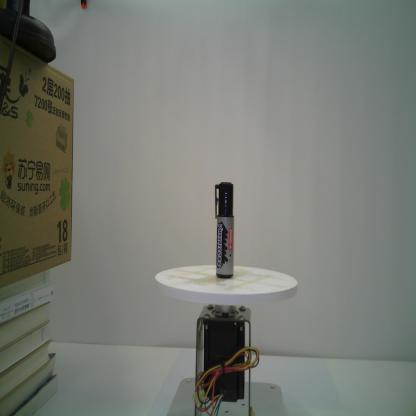Stationery: (215, 182, 234, 278)
